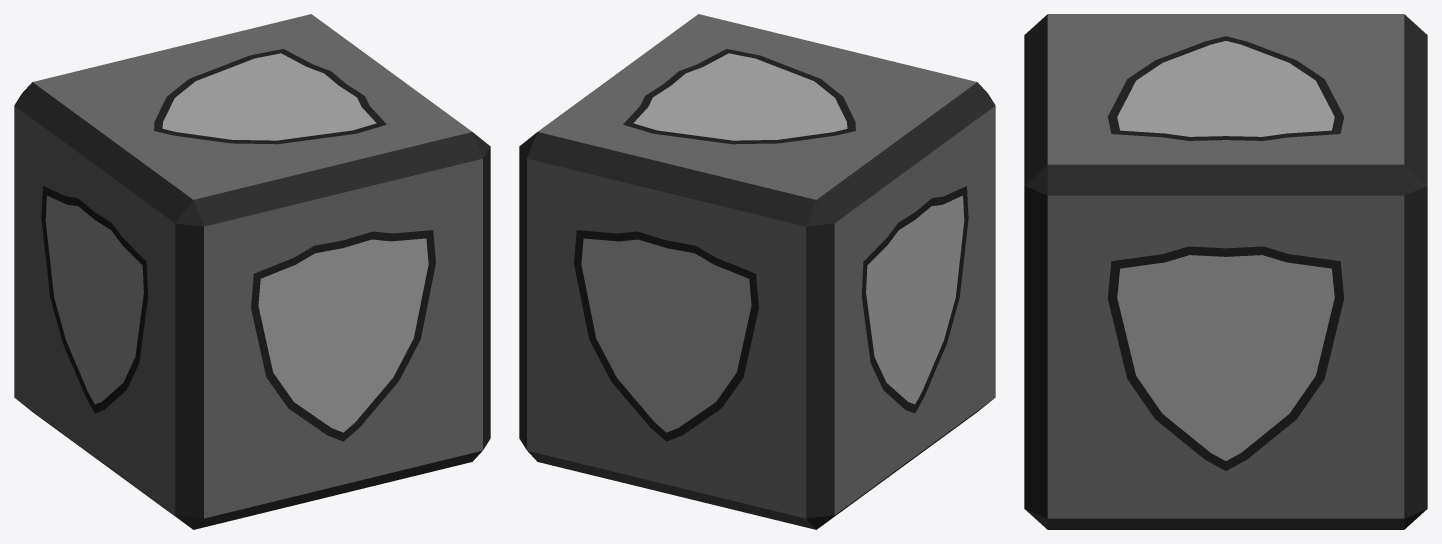
Rendered from defensive_trinket.glb.
3 renders of one model, left to right at view 1: azimuth 30°, elevation 25°; view 2: azimuth 150°, elevation 25°; view 3: azimuth 270°, elevation 25°, orthographic. The views are drawn at different scales.
Parts seen in each view (by area): view 1: DefensiveTrinket; view 2: DefensiveTrinket; view 3: DefensiveTrinket.
Boxes of the visible parts, x1=… form: DefensiveTrinket: x1=14, y1=14, x2=490, y2=529; DefensiveTrinket: x1=519, y1=14, x2=995, y2=529; DefensiveTrinket: x1=1024, y1=14, x2=1427, y2=529.
Size of the model in its own units: 1 by 1 by 1.
1 material, 1 textured.
